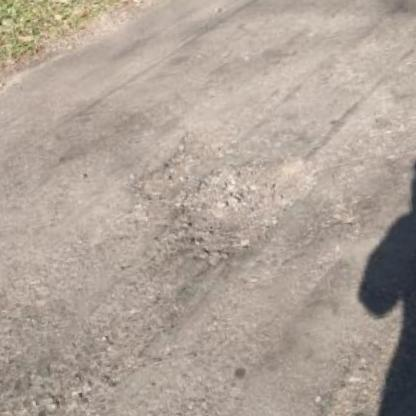pothole: (166, 147, 333, 272), (121, 120, 238, 202)
